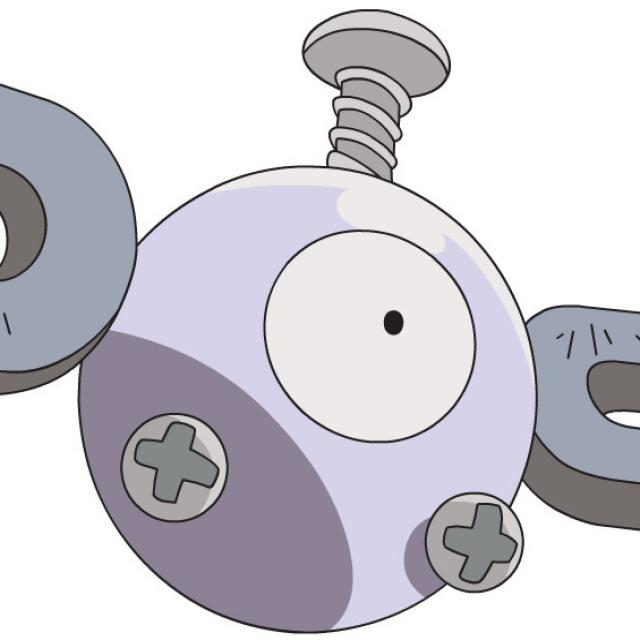Magnemite: (0, 62, 633, 622)
